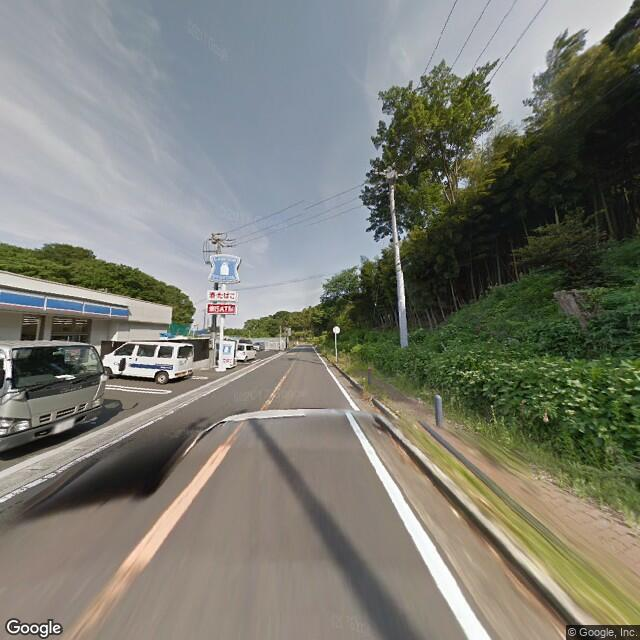lawson: (2, 281, 130, 325), (206, 253, 242, 288)
